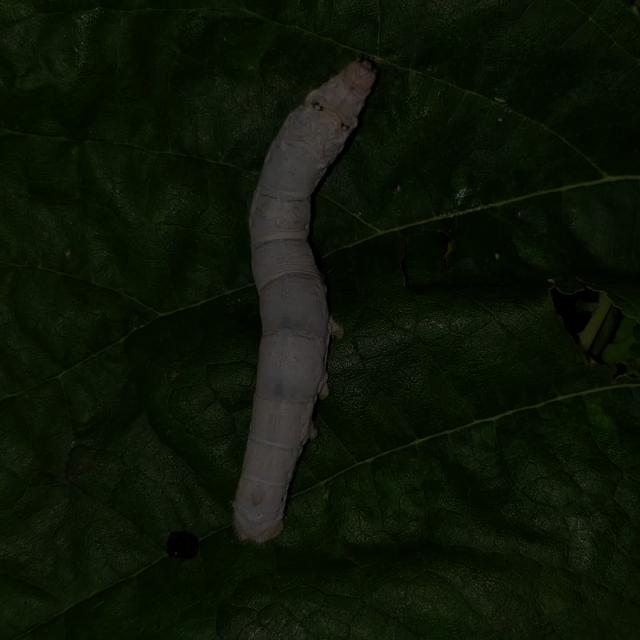Healthy: (199, 36, 432, 592)
